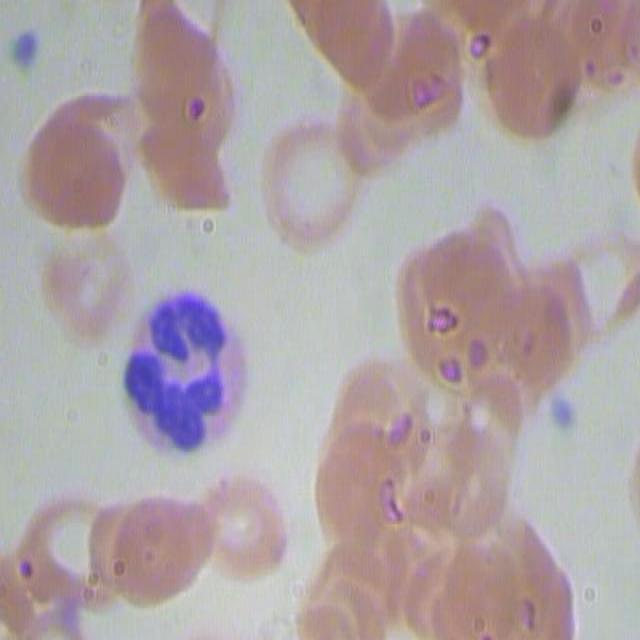RBC: (351, 512, 479, 640), (131, 12, 242, 136), (423, 232, 512, 371), (28, 108, 124, 232), (405, 420, 512, 526), (262, 130, 358, 246), (490, 21, 580, 140), (370, 22, 463, 137), (446, 550, 573, 632), (118, 495, 220, 597), (338, 359, 421, 475), (302, 0, 396, 89), (321, 445, 402, 545), (482, 298, 566, 390), (541, 12, 640, 85), (20, 506, 98, 598), (203, 487, 287, 572), (138, 132, 229, 210), (429, 0, 532, 59), (309, 567, 383, 640), (88, 502, 136, 595)
WBC: (124, 298, 246, 449)
platelets: (16, 31, 40, 72), (548, 400, 575, 424)
